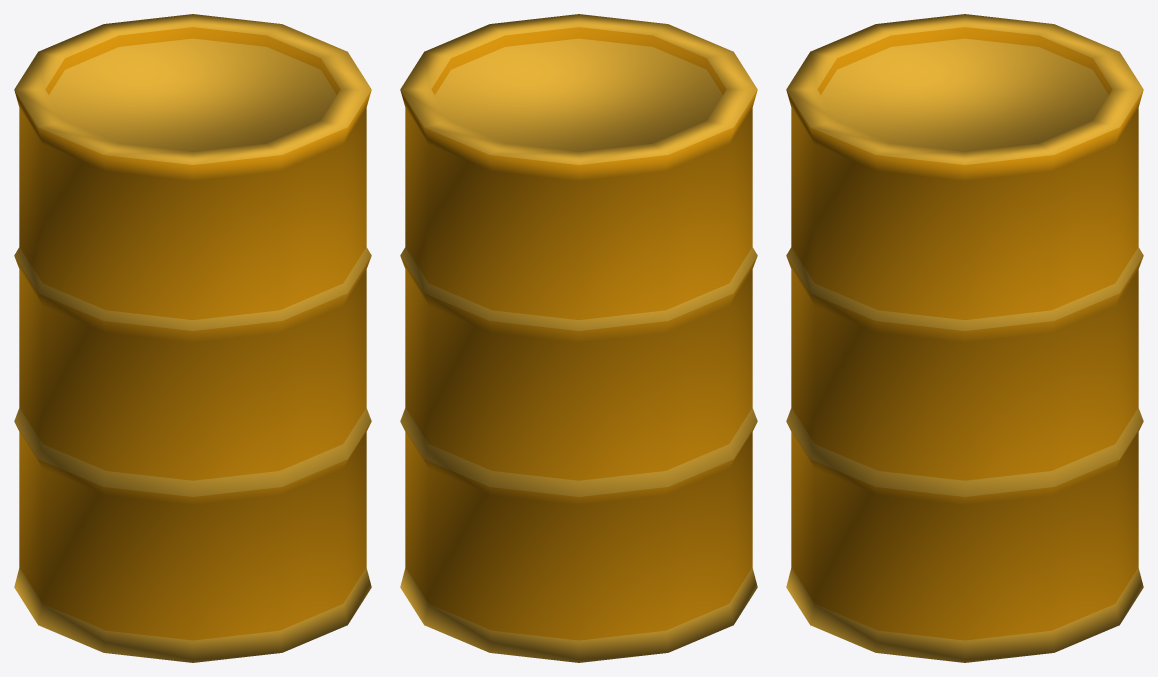
File: OrangeBarrel.fbx
3 renders of one model, left to right at view 1: azimuth 30°, elevation 25°; view 2: azimuth 150°, elevation 25°; view 3: azimuth 270°, elevation 25°, orthographic.
Parts seen in each view (by area): view 1: OrangeBarrel; view 2: OrangeBarrel; view 3: OrangeBarrel.
Part boxes in pixels (left/top/right/bottom): OrangeBarrel: left=14, top=14, right=371, bottom=662; OrangeBarrel: left=400, top=14, right=757, bottom=662; OrangeBarrel: left=786, top=14, right=1143, bottom=662.
Size of the model in its own units: 1.19 by 1.19 by 1.84.
